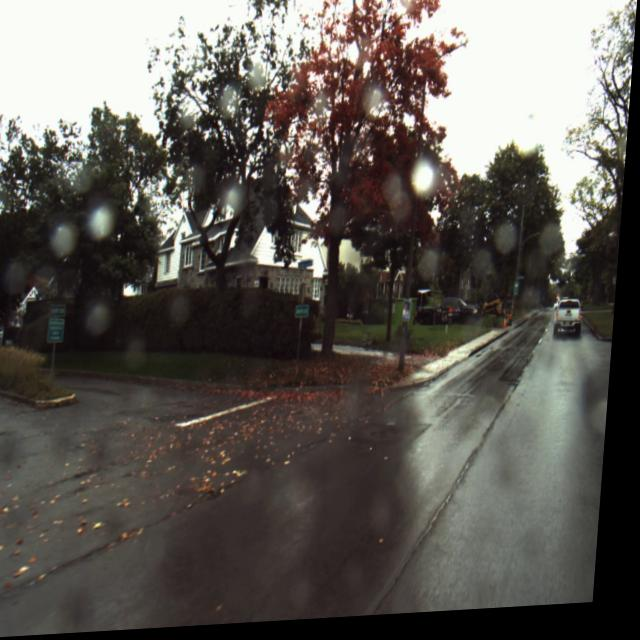car: (559, 305, 589, 346), (448, 302, 485, 333)
